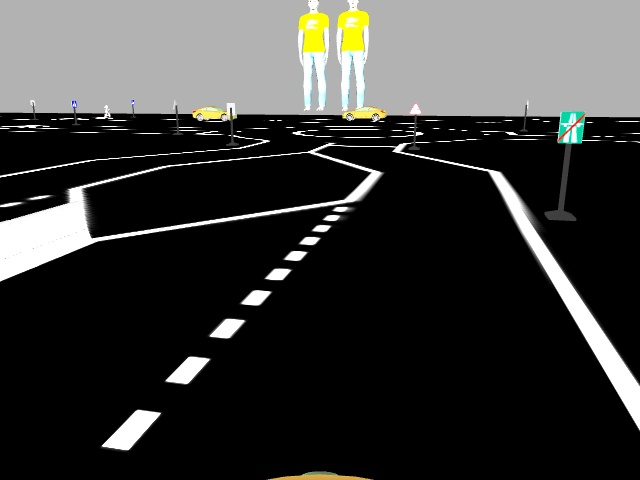HighwayExit: (555, 111, 585, 145)
